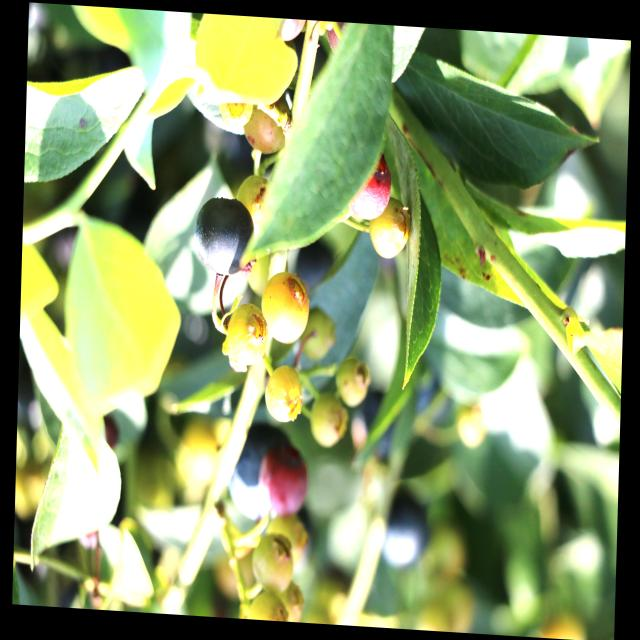blueberry: (224, 416, 293, 528), (190, 190, 262, 286), (376, 480, 435, 578), (343, 384, 401, 462), (289, 223, 346, 299)
blueberry-halfripe: (258, 441, 311, 520), (348, 157, 392, 225)
blueberry-unripe: (260, 270, 310, 346), (249, 530, 297, 592), (225, 303, 269, 366), (368, 198, 410, 261), (235, 173, 274, 240), (263, 360, 303, 424), (245, 101, 291, 154), (333, 357, 370, 411), (309, 396, 346, 449), (302, 311, 336, 358), (251, 587, 287, 621), (218, 96, 255, 128)
